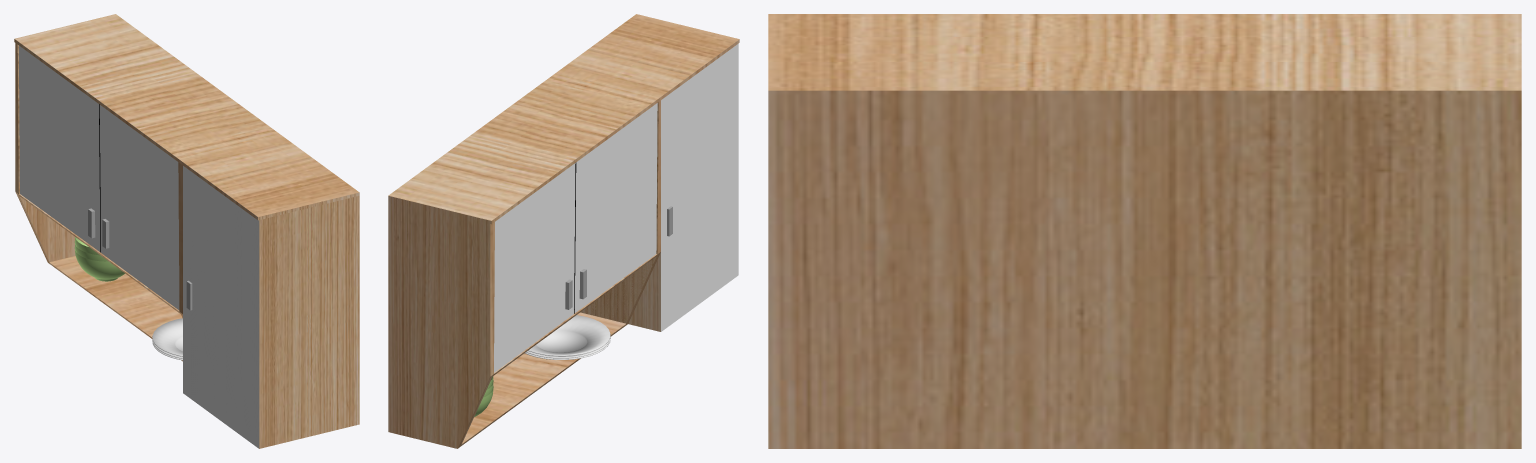
Rendered from rak dapur.glb.
3 views of the same model, side by side, from view 1: azimuth 30°, elevation 25°; view 2: azimuth 150°, elevation 25°; view 3: azimuth 270°, elevation 25° (orthographic). The views are drawn at different scales.
Visible parts, largest first — view 1: Rak; view 2: Rak; view 3: Rak.
Boxes of the visible parts, bbox=[...] form: Rak: bbox=[14, 14, 359, 448]; Rak: bbox=[388, 14, 739, 448]; Rak: bbox=[768, 14, 1521, 448].
Size of the model in its own units: 1.4 by 3.03 by 5.77.
Materials: 6 (1 with a texture image).
